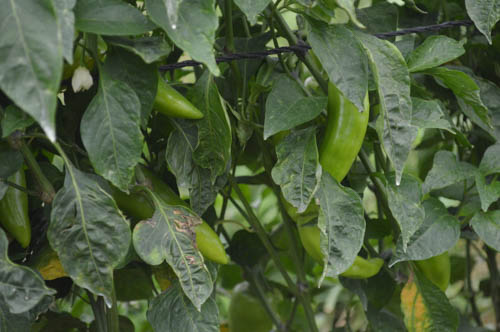ChiliPepper: (116, 173, 231, 264), (321, 70, 371, 192), (300, 225, 380, 278), (147, 79, 208, 120), (4, 172, 29, 247)
